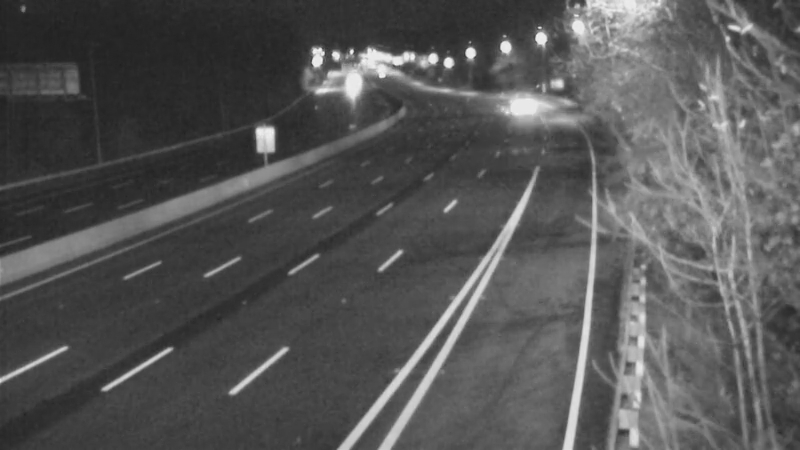vehicle: (489, 83, 539, 133), (327, 62, 377, 112)
